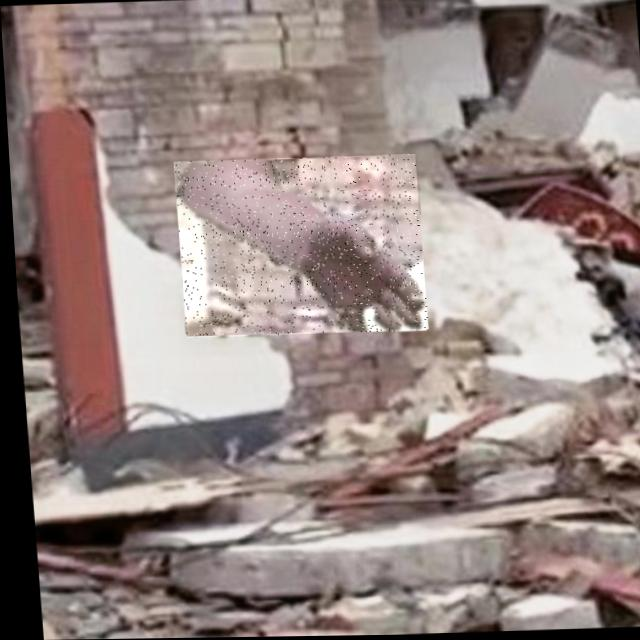Person in Rubble: (171, 155, 424, 338)
